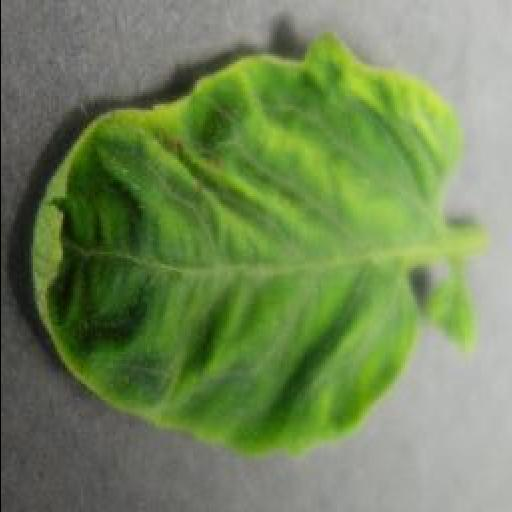disease_tomato: (25, 35, 455, 456)
